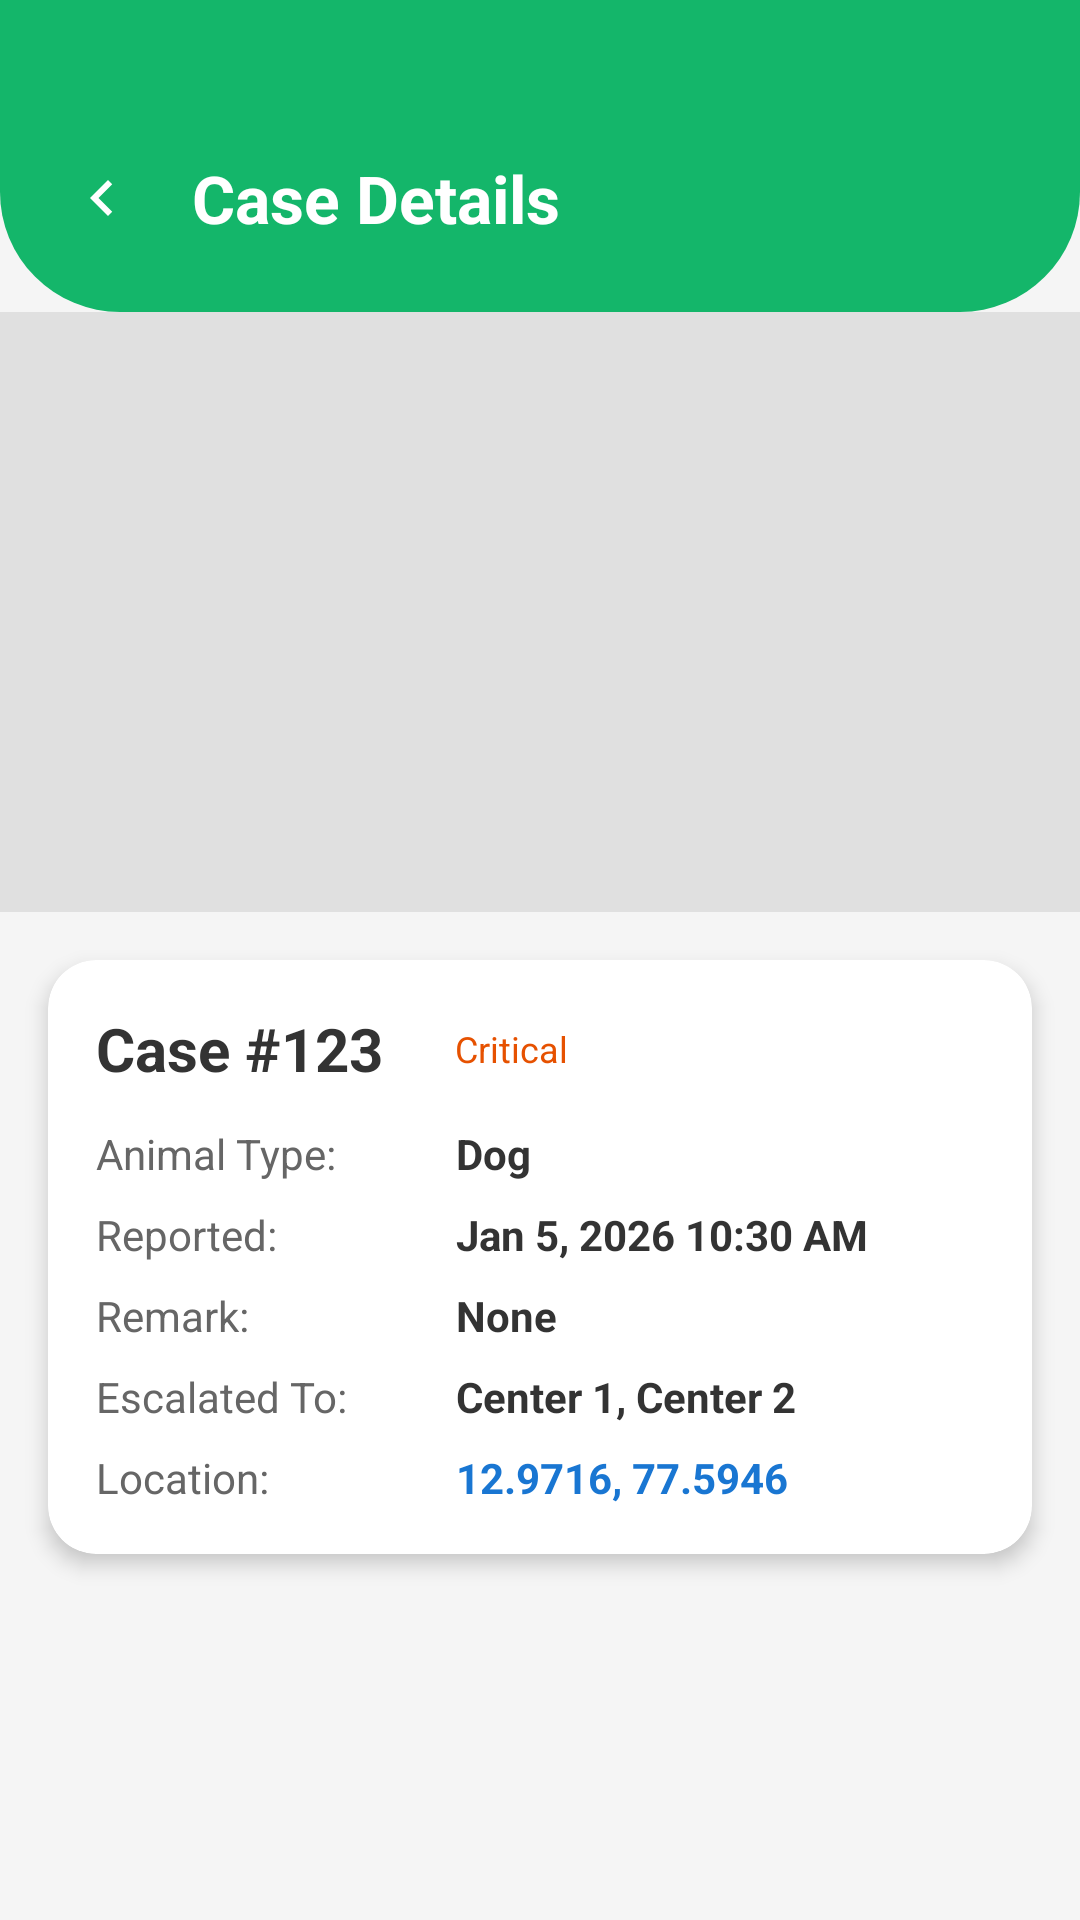

Where icons sit on this 1080x1920 app screen, as Rect(x1, y1, x2, y2):
back: Rect(90, 180, 112, 216)
